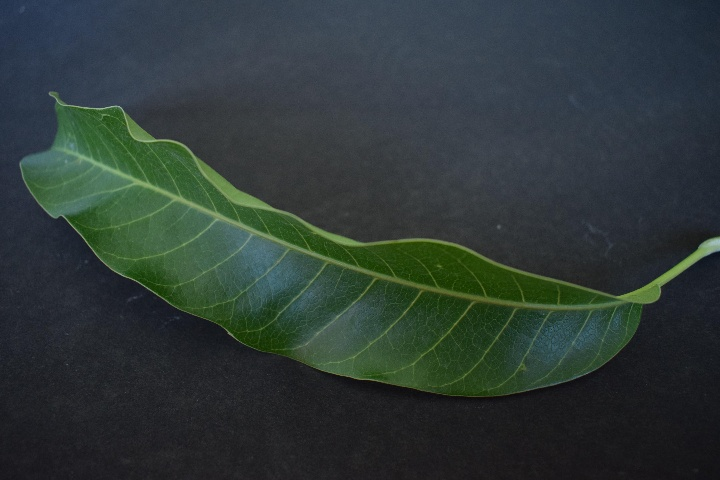healthy: (30, 92, 639, 409)
